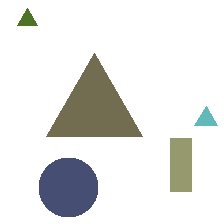circle: (39, 158, 97, 216)
rectangle: (170, 138, 191, 191)
triangle: (46, 53, 142, 136), (194, 106, 217, 125), (17, 8, 37, 25)
